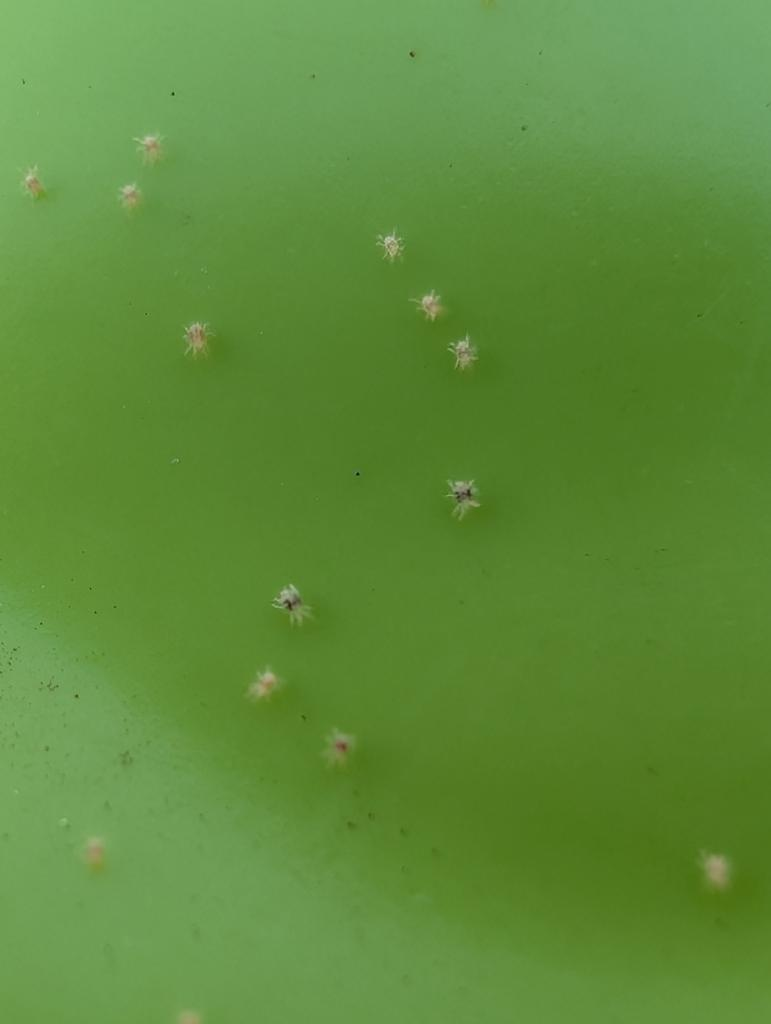tiny_pests: (437, 459, 494, 534), (308, 722, 362, 789), (268, 574, 324, 635), (167, 314, 229, 367), (402, 284, 459, 334), (440, 326, 493, 377), (367, 213, 412, 273)
